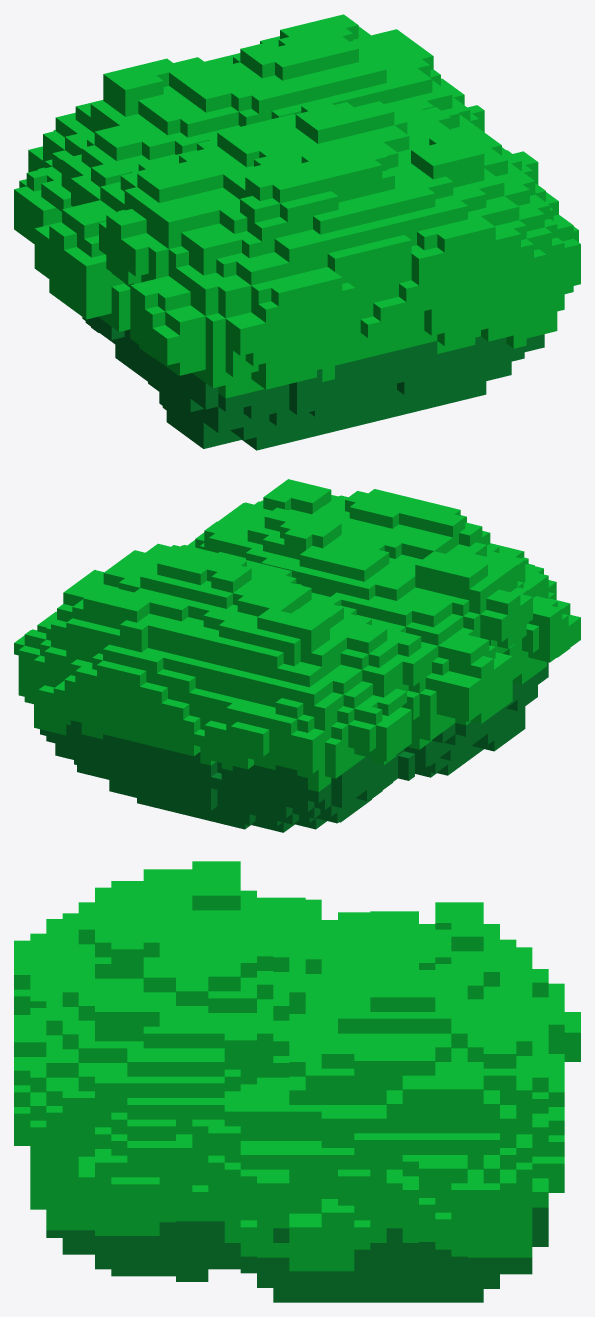
Rendered from nat_canopy_round.obj.
The picture shows the model from 3 angles, top to bottom: view 1: azimuth 30°, elevation 25°; view 2: azimuth 150°, elevation 25°; view 3: azimuth 270°, elevation 25°; orthographic projection. The views are drawn at different scales.
Bounding box in the file's own units: 0.95 × 0.4878 × 0.8986.
